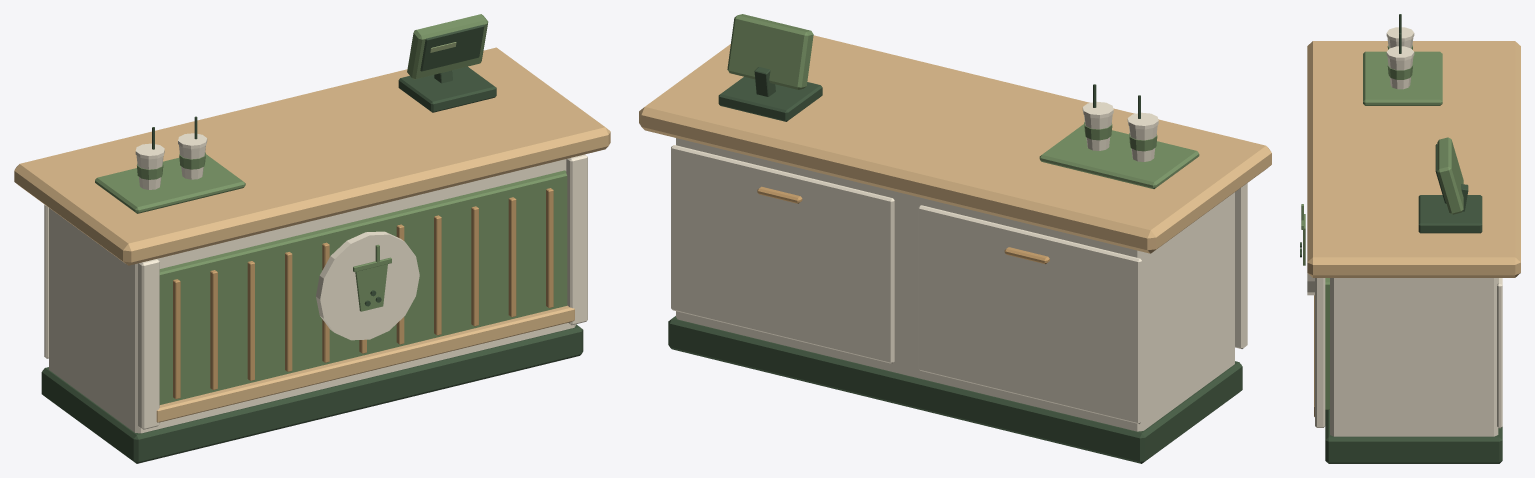
The model's file is milk_tea_counter.fbx.
3 views of the same model, side by side, from view 1: azimuth 30°, elevation 25°; view 2: azimuth 150°, elevation 25°; view 3: azimuth 270°, elevation 25° (orthographic). The views are drawn at different scales.
Parts seen in each view (by area): view 1: SM_MilkTea_Counter; view 2: SM_MilkTea_Counter; view 3: SM_MilkTea_Counter.
Part boxes in pixels (left/top/right/bottom): SM_MilkTea_Counter: left=14, top=14, right=610, bottom=463; SM_MilkTea_Counter: left=639, top=14, right=1271, bottom=463; SM_MilkTea_Counter: left=1300, top=14, right=1520, bottom=463.
Bounding box in the file's own units: 2.3 × 1.37 × 0.9715.
